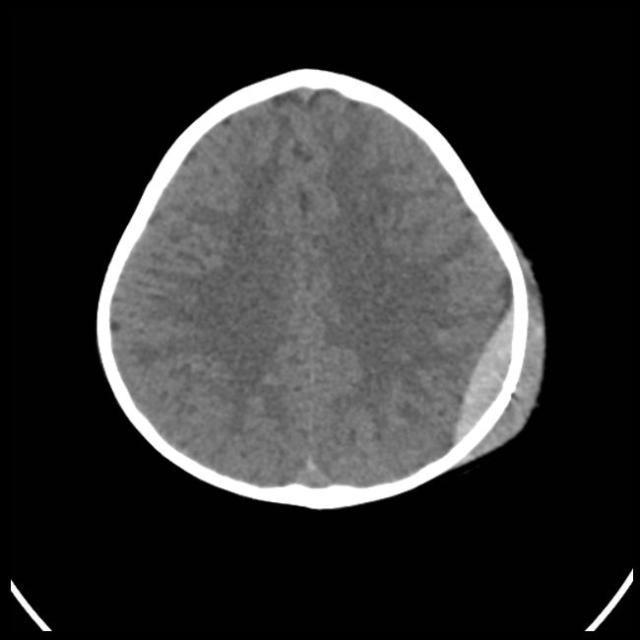lesion: (92, 67, 548, 509)
